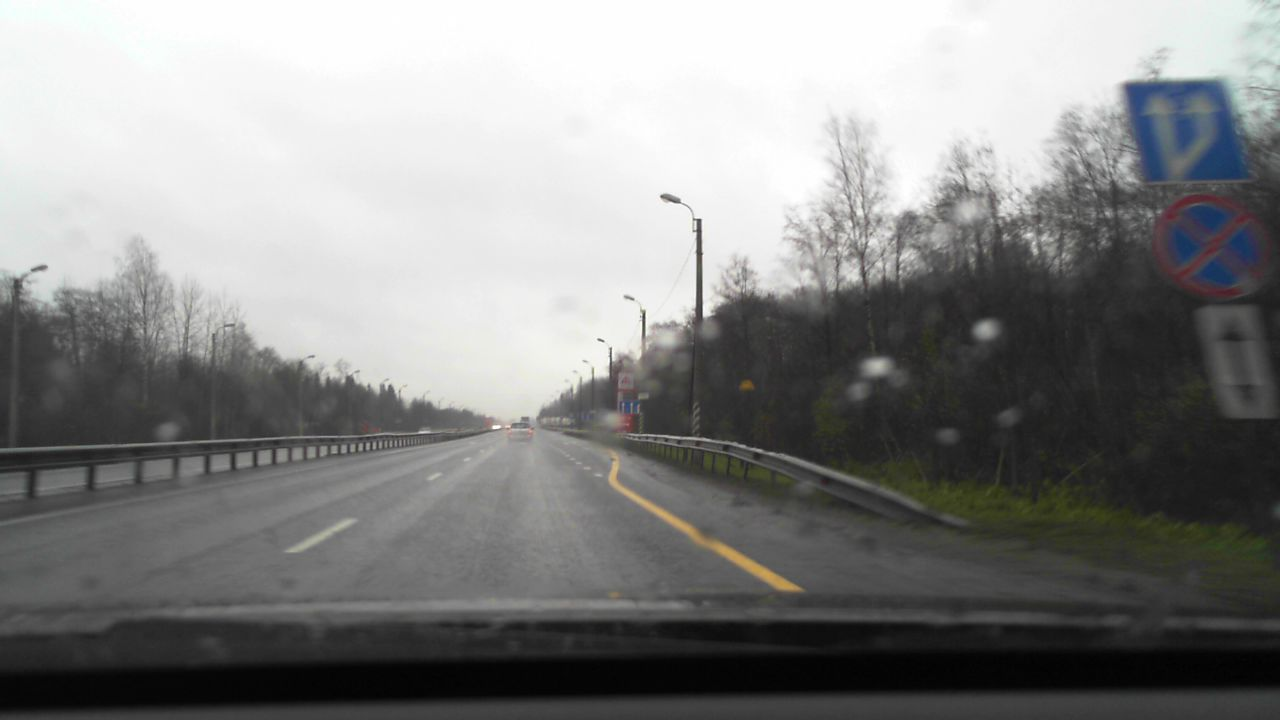No Parking: (1151, 192, 1273, 301)
